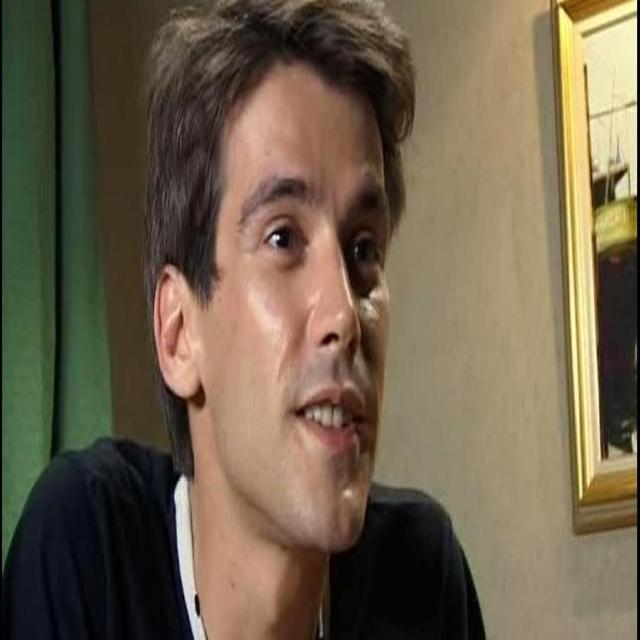Face: (196, 77, 392, 558)
